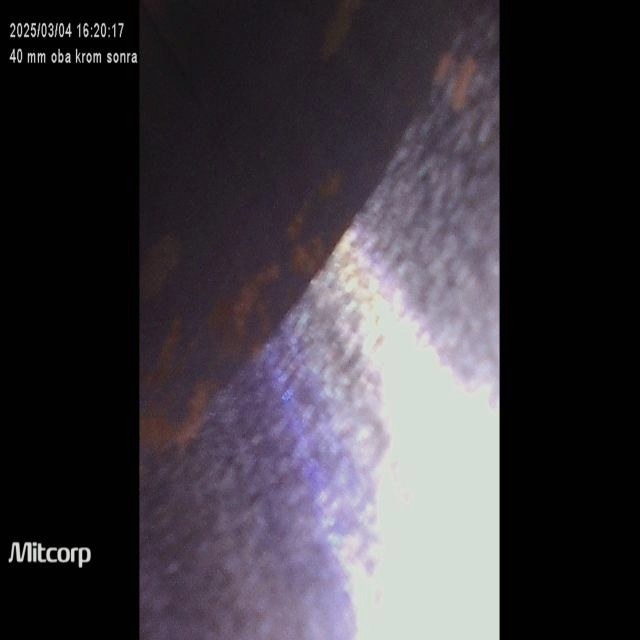hata_4.1: (270, 126, 364, 314), (133, 313, 216, 505), (194, 242, 292, 389), (418, 23, 493, 131), (293, 0, 377, 85), (137, 213, 188, 316)
